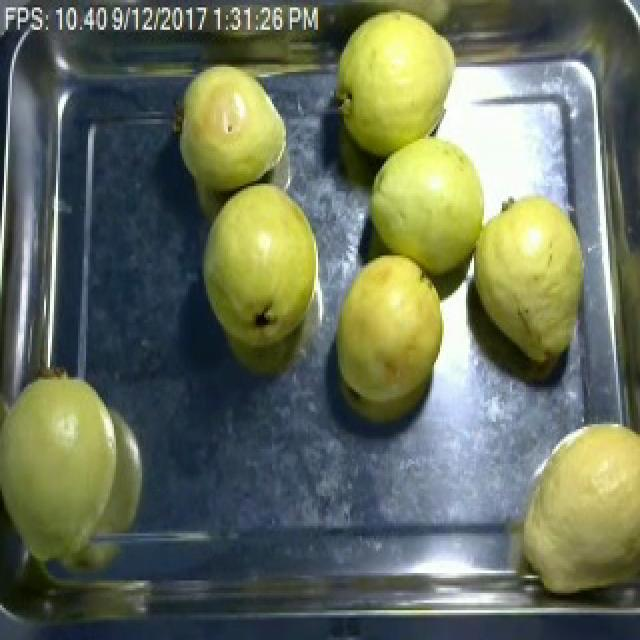Fruit: (0, 360, 142, 588), (462, 176, 606, 392), (192, 174, 332, 382), (506, 407, 640, 608), (322, 241, 460, 434), (332, 0, 470, 171), (366, 127, 502, 295), (170, 57, 296, 196)
